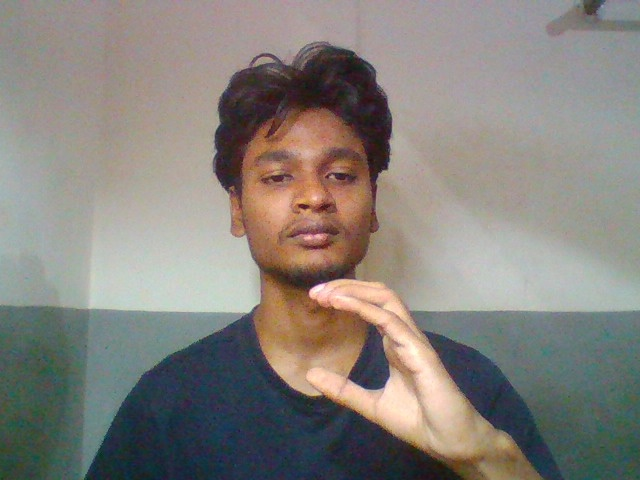C: (294, 268, 516, 472)
